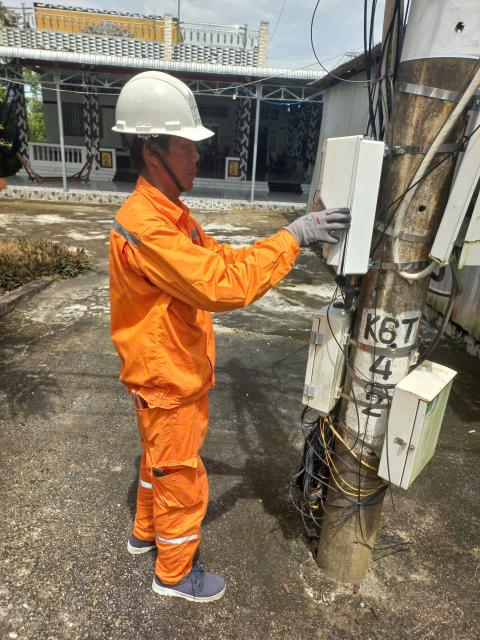gloves: (272, 208, 365, 251)
helmet: (86, 66, 224, 155)
shoes: (144, 562, 241, 608), (113, 522, 179, 561)
